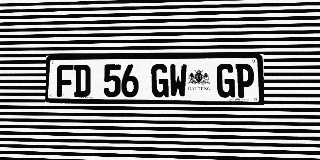5: (104, 64, 121, 97)
6: (121, 64, 139, 97)
D: (74, 64, 90, 97)
F: (57, 65, 73, 97)
G: (217, 64, 235, 98), (151, 64, 169, 97)
P: (235, 64, 254, 98)
W: (169, 64, 187, 97)
